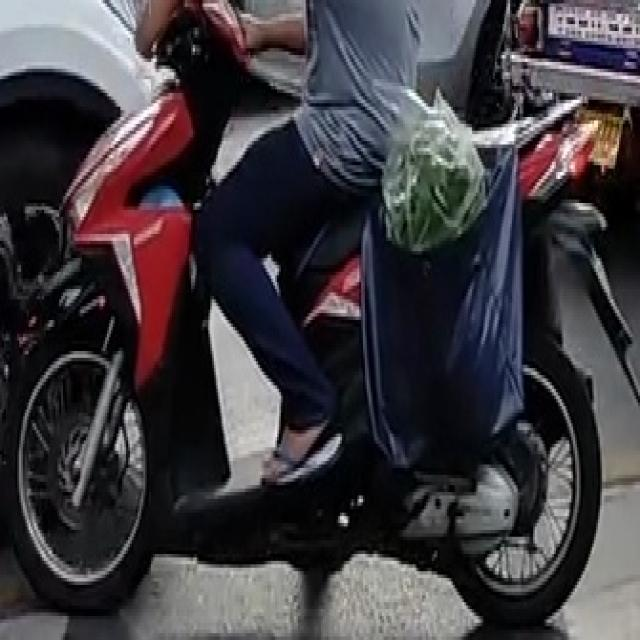door: (0, 0, 638, 619)
tyre: (449, 330, 602, 623), (6, 323, 153, 612)
